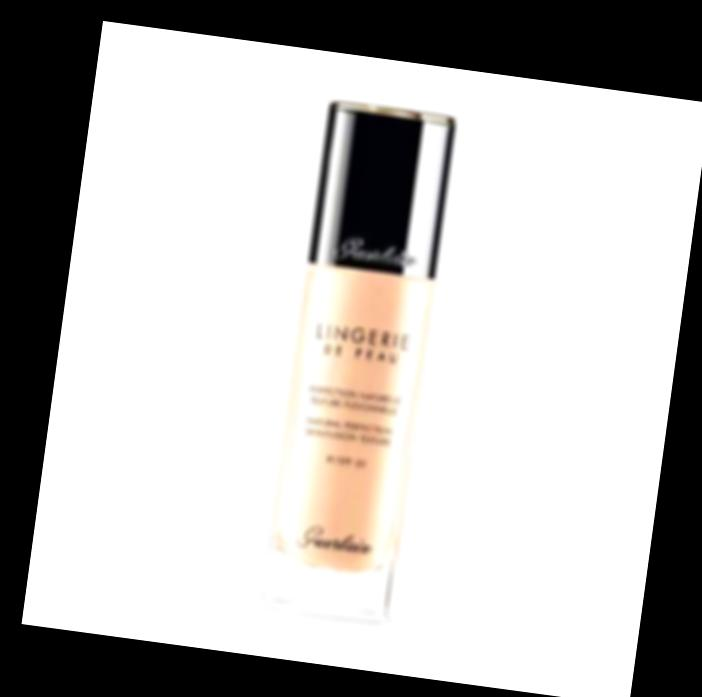cosmetic: (261, 98, 460, 623)
